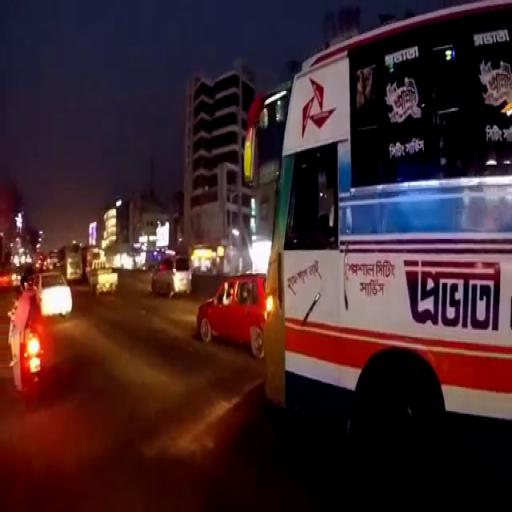bus: (260, 1, 512, 458), (58, 242, 83, 279)
car: (196, 272, 265, 353), (34, 270, 72, 317)
minivan: (151, 253, 192, 295)
motorbike: (20, 324, 47, 406)
pickup: (88, 257, 119, 293)
